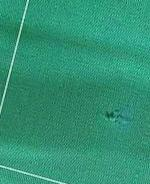knot: (100, 106, 126, 125)
